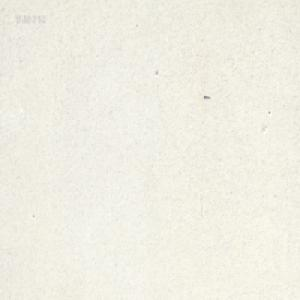Nail: (203, 94, 209, 100)
